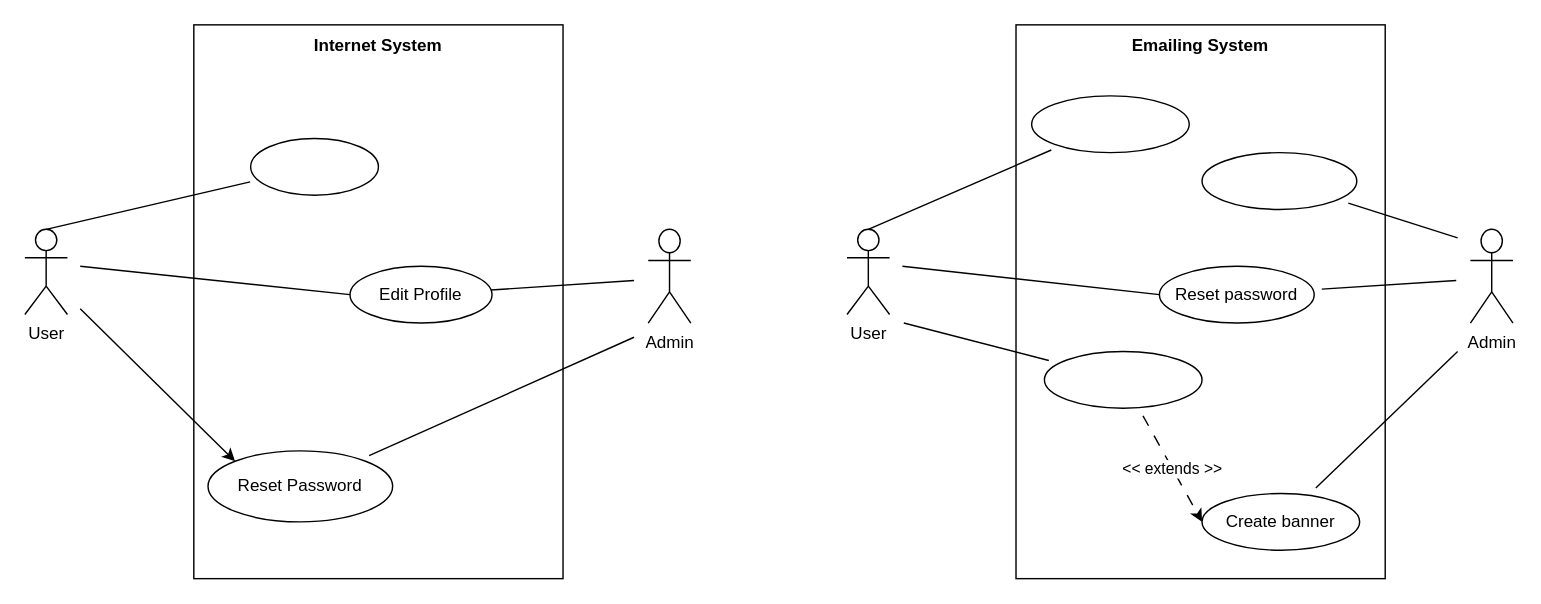
The diagram is 1541 pixels wide and 604 high, and some of its shapes have lost their labels. Each missing label, with the centre of its shape:
"Access account" goes at pixel 1109 123.
"Click banner" goes at pixel 1122 379.
"Delete account" goes at pixel 1279 180.
"Read Profile" goes at pixel 313 166.
